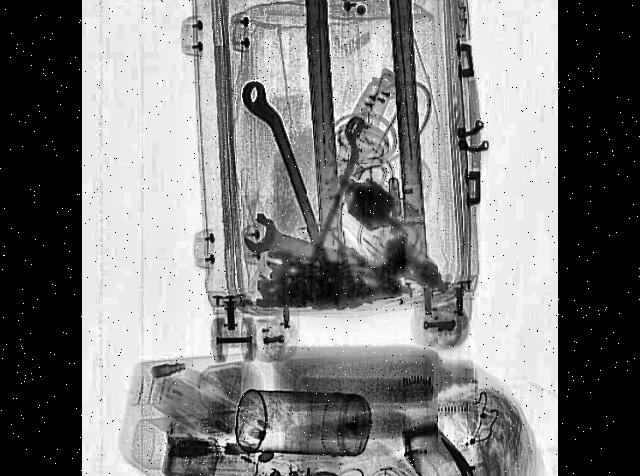Wrench: (238, 68, 328, 260), (300, 108, 372, 248), (242, 209, 361, 279)
